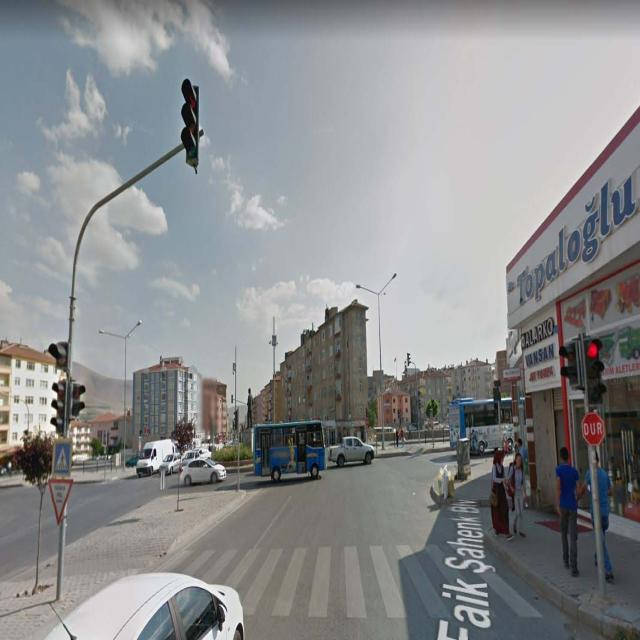dur: (584, 413, 604, 448)
kirmizi: (584, 338, 605, 408), (182, 80, 199, 157)
